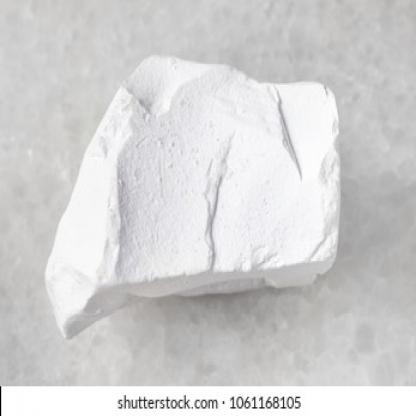Sedimentary_Chalk: (38, 43, 342, 334)
